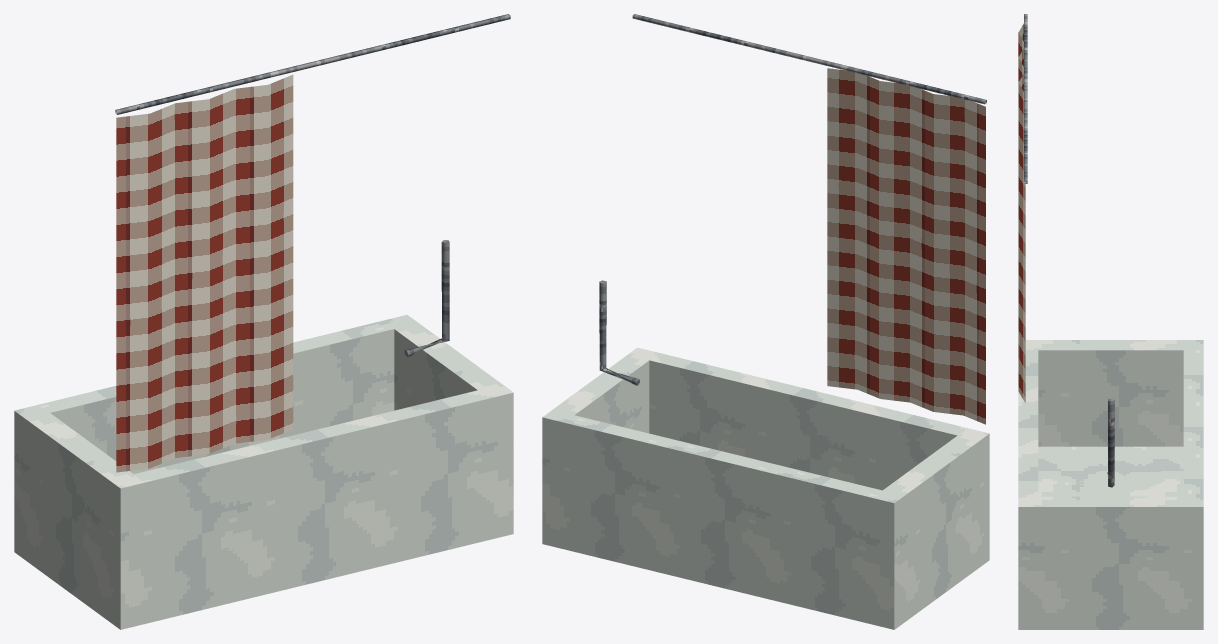
File: RES_Bathtub.obj
3 views of the same model, side by side, from view 1: azimuth 30°, elevation 25°; view 2: azimuth 150°, elevation 25°; view 3: azimuth 270°, elevation 25° (orthographic). The views are drawn at different scales.
Visible parts, largest first — view 1: RES_Bathtub_Mesh_M_Res_Porcelain, RES_Bathtub_Mesh_M_Res_Gingham, RES_Bathtub_Mesh_M_Furn_MetalBrushed; view 2: RES_Bathtub_Mesh_M_Res_Porcelain, RES_Bathtub_Mesh_M_Res_Gingham, RES_Bathtub_Mesh_M_Furn_MetalBrushed; view 3: RES_Bathtub_Mesh_M_Res_Porcelain, RES_Bathtub_Mesh_M_Res_Gingham, RES_Bathtub_Mesh_M_Furn_MetalBrushed.
Part boxes in pixels (x1,y1,x2,y2): RES_Bathtub_Mesh_M_Res_Porcelain: (14,314,513,629); RES_Bathtub_Mesh_M_Res_Gingham: (116,74,293,472); RES_Bathtub_Mesh_M_Furn_MetalBrushed: (115,14,510,357); RES_Bathtub_Mesh_M_Res_Porcelain: (542,347,989,629); RES_Bathtub_Mesh_M_Res_Gingham: (827,68,985,424); RES_Bathtub_Mesh_M_Furn_MetalBrushed: (599,14,986,385); RES_Bathtub_Mesh_M_Res_Porcelain: (1018,340,1203,629); RES_Bathtub_Mesh_M_Res_Gingham: (1018,23,1025,402); RES_Bathtub_Mesh_M_Furn_MetalBrushed: (1024,14,1114,487).
Size of the model in its own units: 1.6 by 2.01 by 0.75.
Materials: 3 (3 with a texture image).
